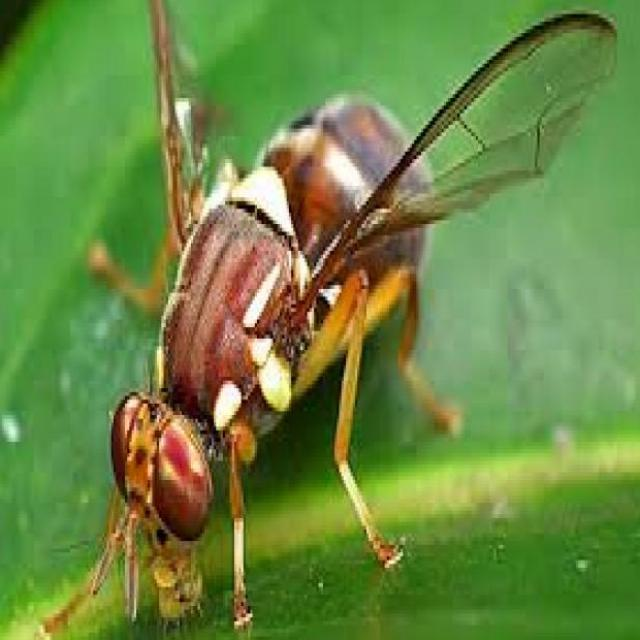Fruit fly: (79, 0, 621, 640)
